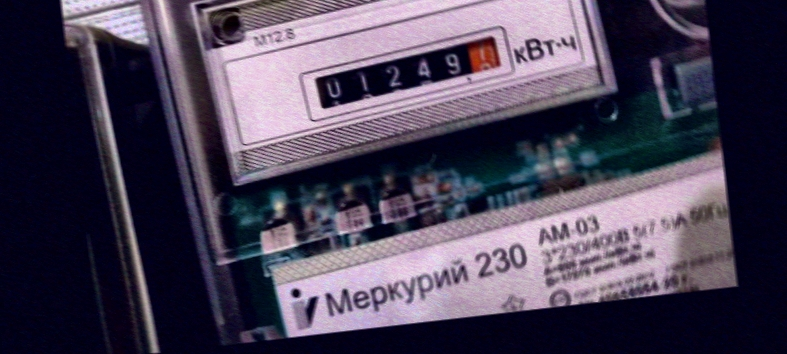0: (319, 71, 341, 99)
1: (351, 67, 368, 94)
2: (380, 61, 403, 89)
4: (411, 52, 432, 81)
7: (470, 37, 488, 63)
9: (440, 49, 461, 75)
screen: (288, 25, 528, 126)
